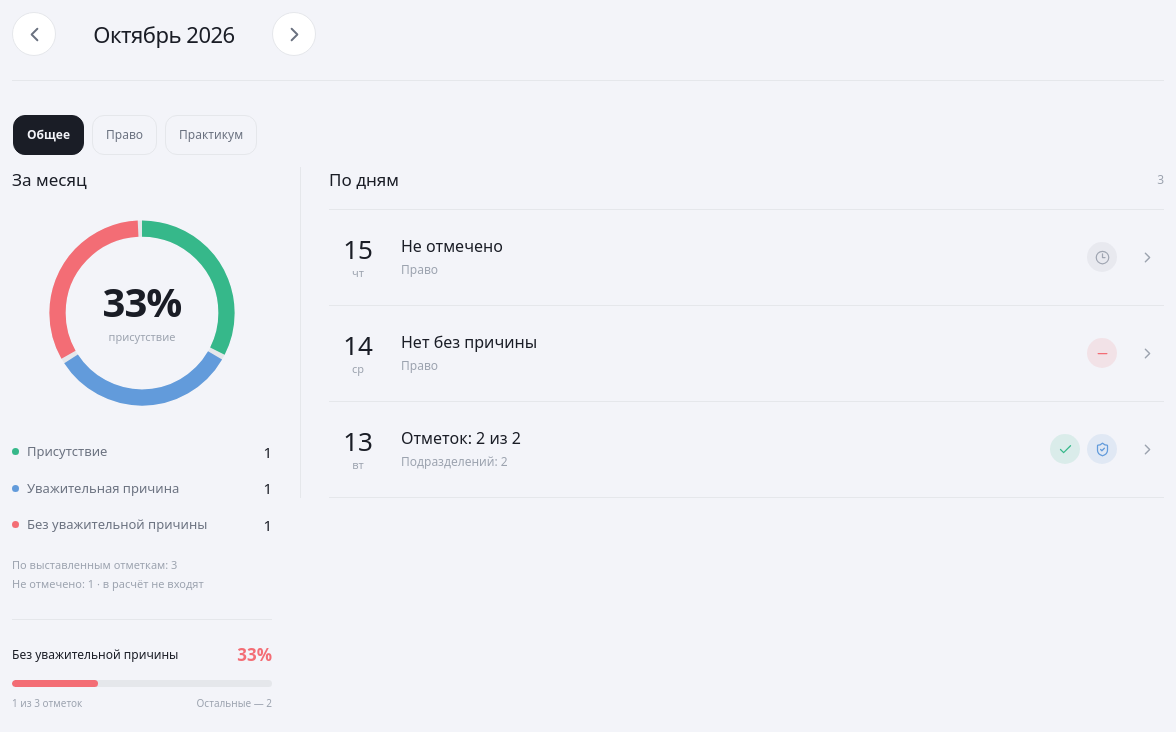
student monthly view › filters departments locally and switches full calendar months using the existing own report
This screenshot has width=1176, height=732.
Expected: the picture is shown, [38,208,246,416]
Click the button "Право" at (125, 135), box [92,115,157,155]
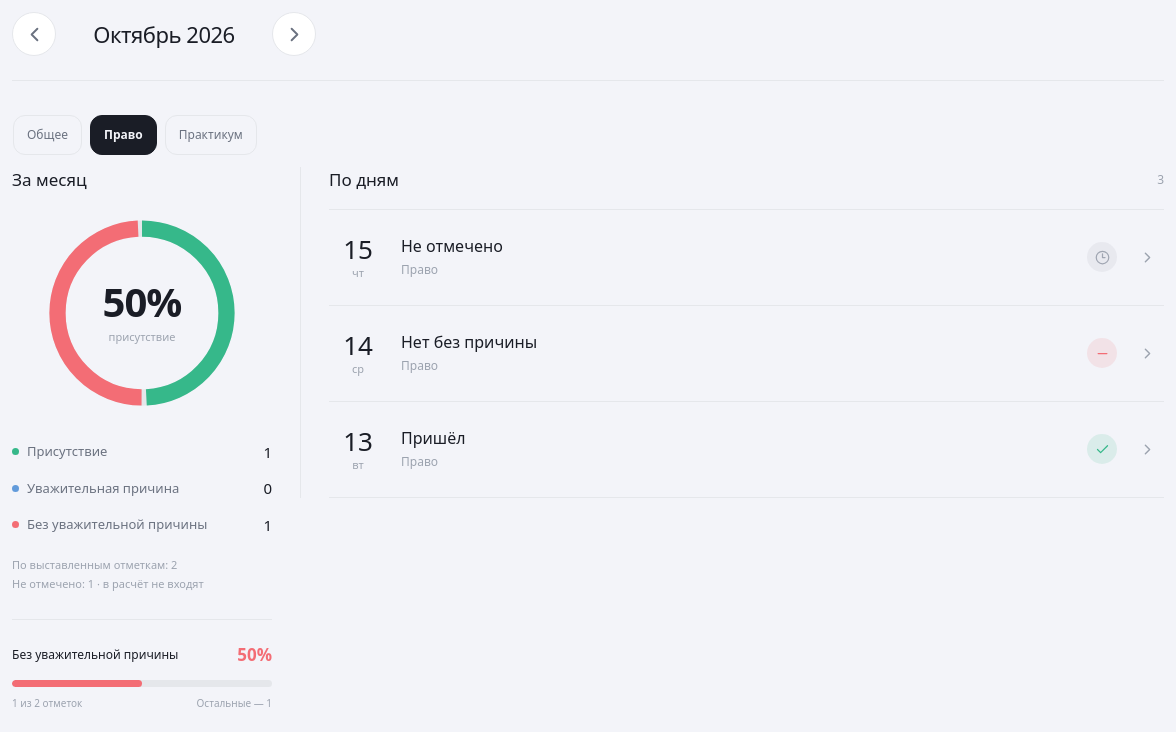
Expected: the progress indicator has attribute aria-valuenow="50", [12,680,272,687]
Click the button named "Следующий месяц" at (294, 34), box [272,12,316,56]
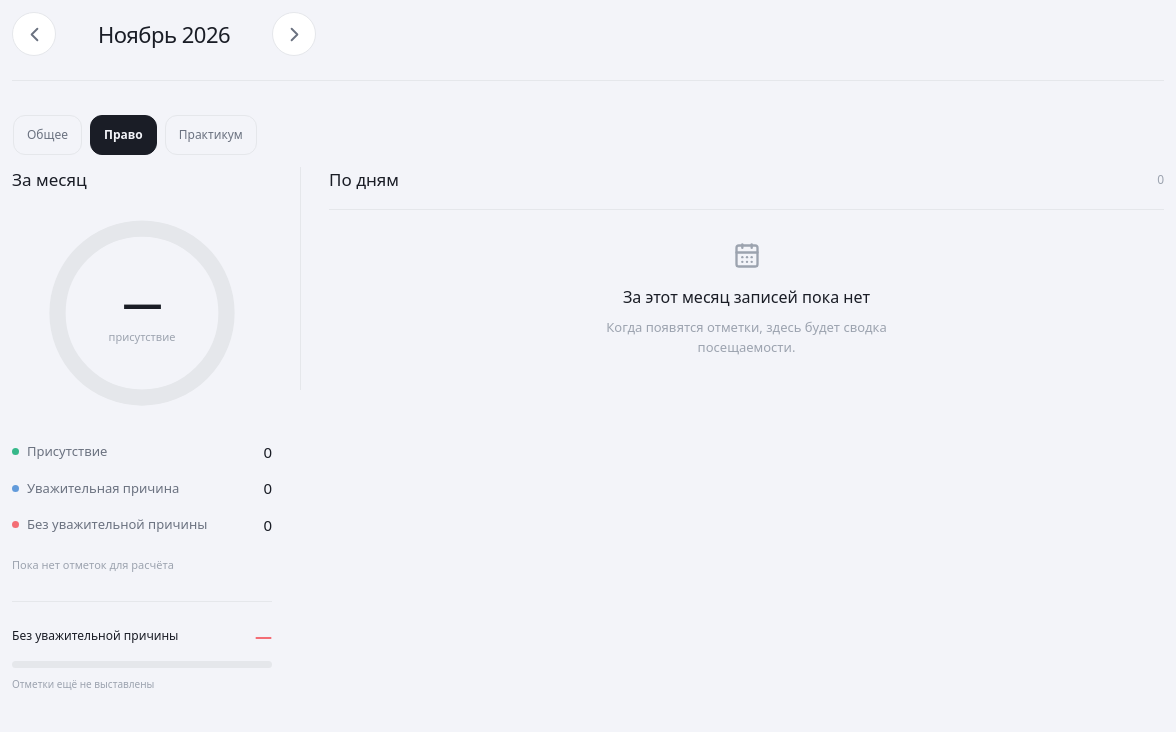
Expected: the text "За этот месяц записей пока нет" is shown, [623,284,870,308]
